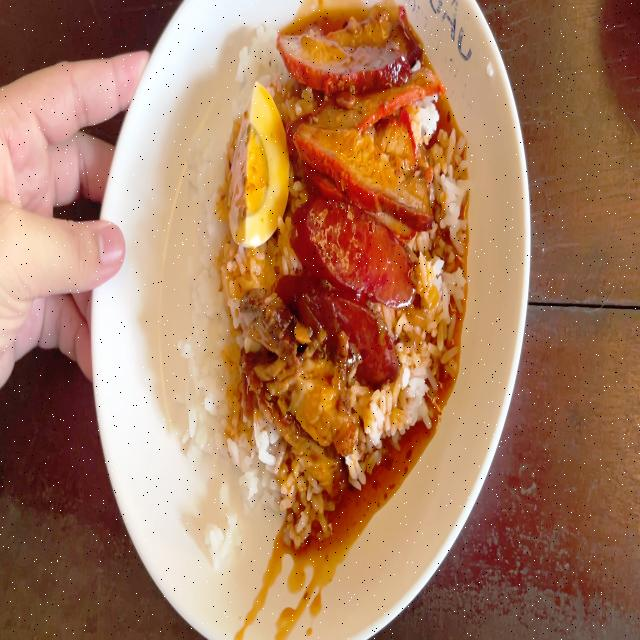boiled_egg: (234, 89, 282, 242)
chainese_sausage: (285, 195, 408, 366)
crispy_pork: (241, 368, 352, 473), (241, 293, 292, 419)
red_pork: (283, 26, 439, 205)
red_pork_and_crispy_pork: (192, 29, 452, 502)
rice: (199, 150, 237, 498), (354, 378, 434, 473)
